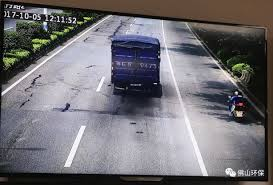smoke: (111, 92, 166, 118)
